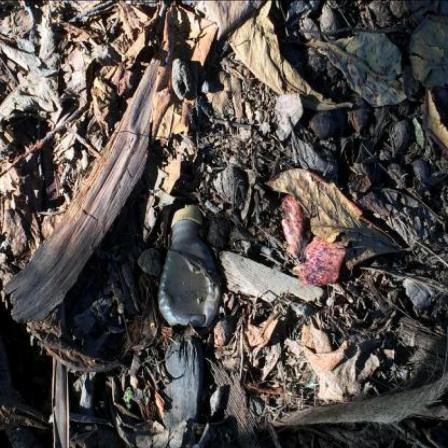Bottle: (160, 205, 222, 328)
Bottle cap: (171, 205, 204, 232)
